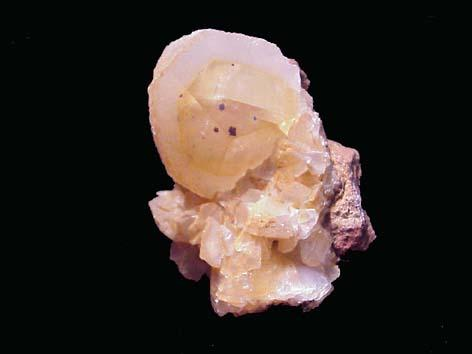calcite: (149, 29, 340, 316)
